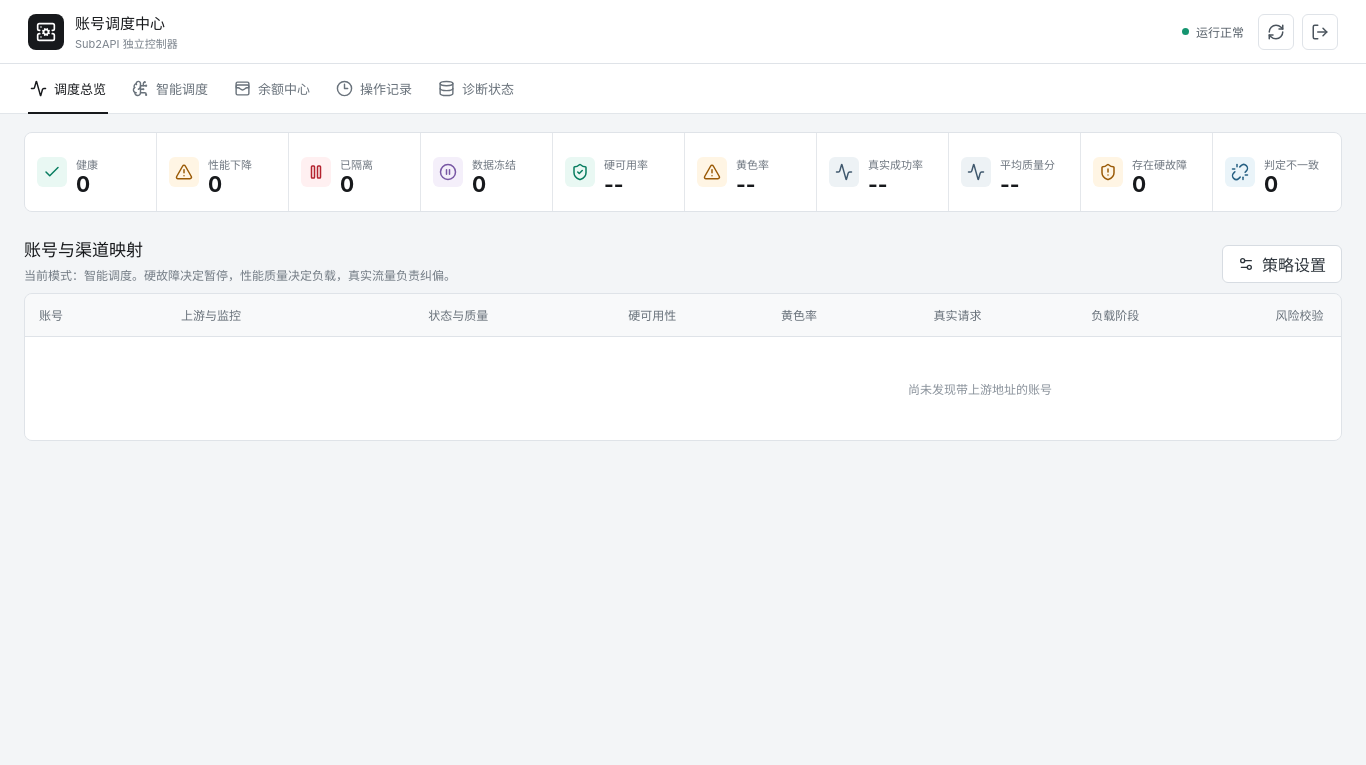
Test: App › tracks an asynchronous chat goal and polls until runtime state changes
The image size is (1366, 765).
Click the button "智能调度".
click(170, 89)  # box [130,64,210,114]
(page scrolled)
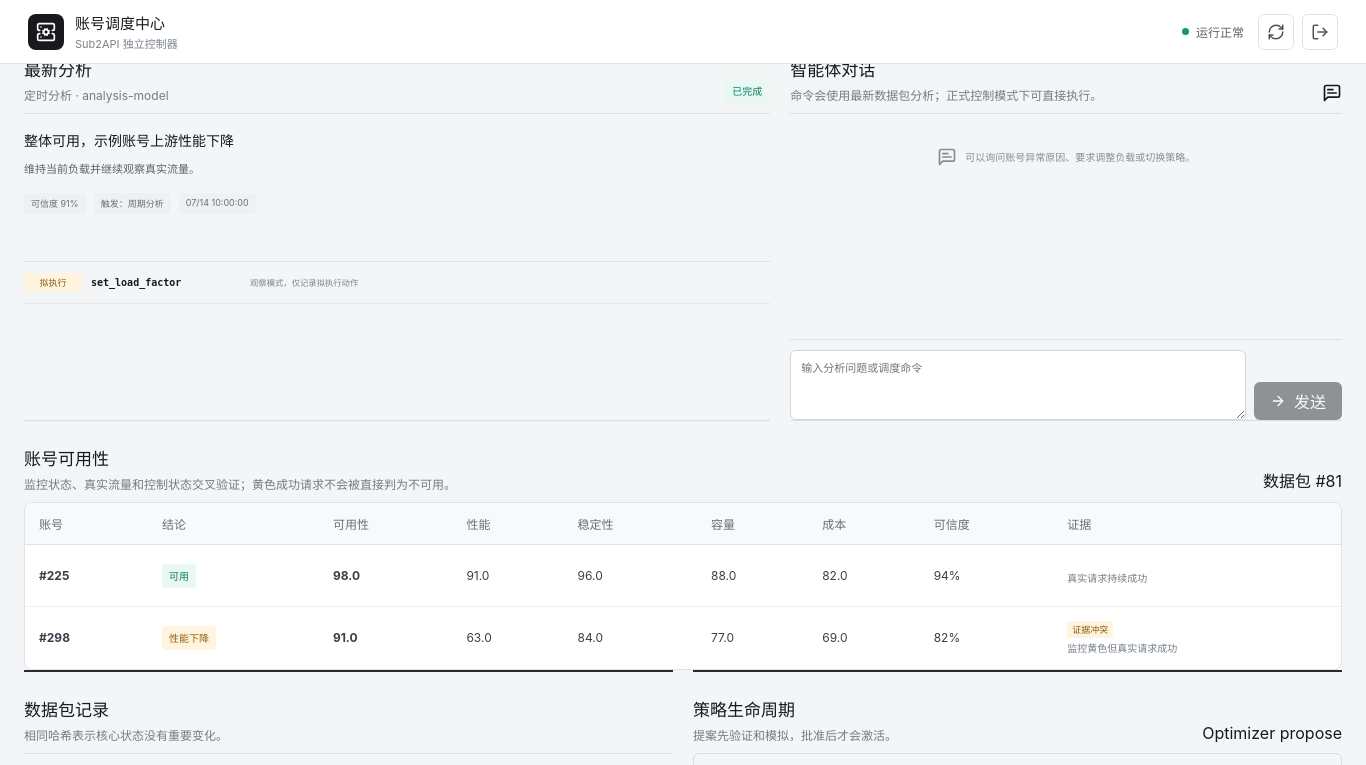
Type "恢复示例账号上游" into the text box with placeholder "输入分析问题或调度命令".
click(1018, 384); type("恢复示例账号上游")  # box [790,350,1246,420]
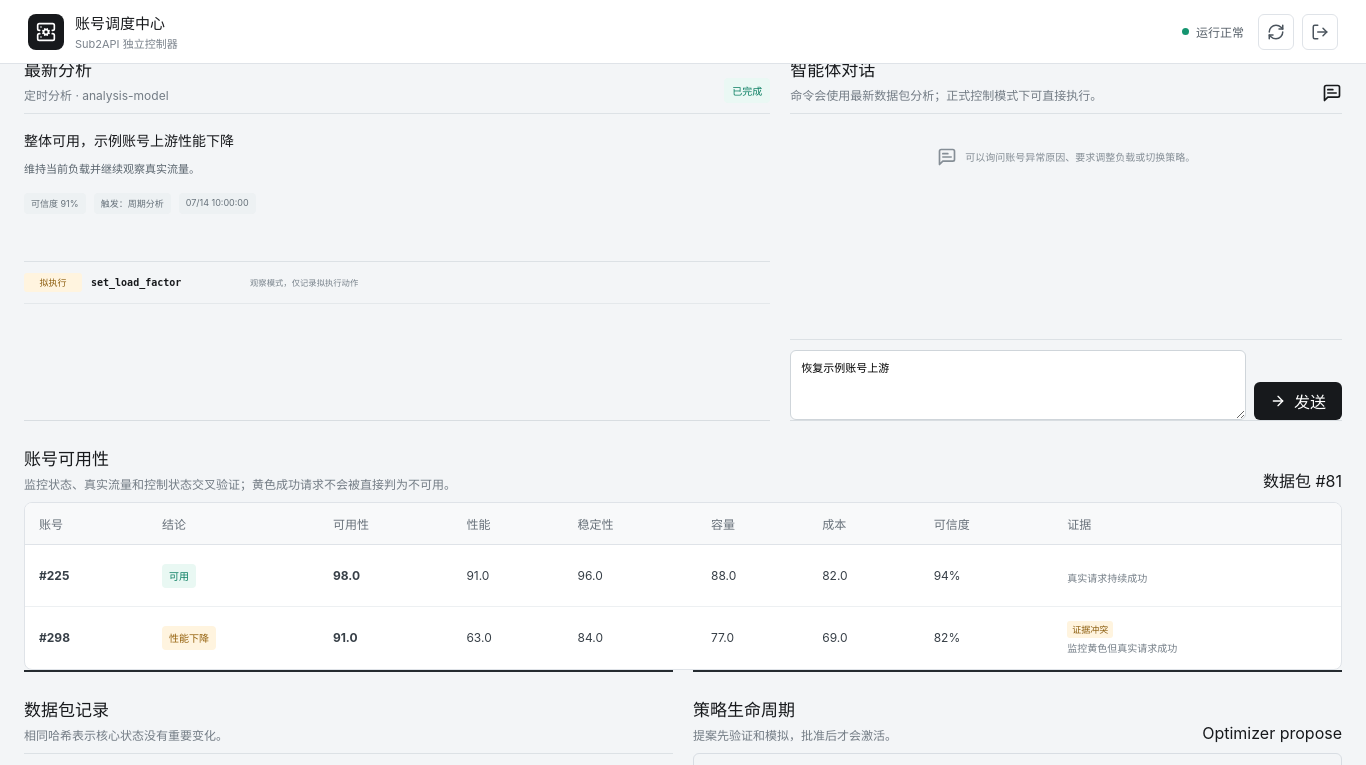
Submit the form with class "agent-chat-form", box [790,338,1342,420]
Wait 1600 ms
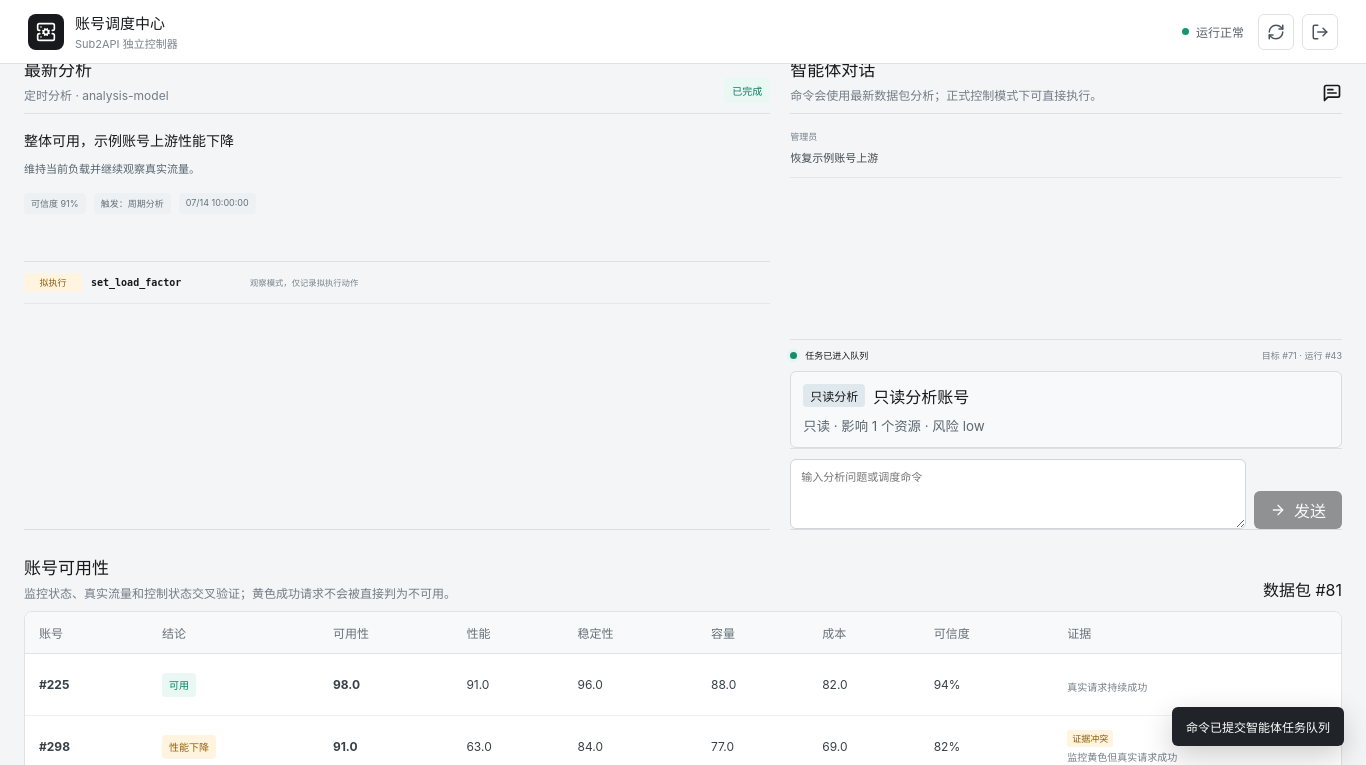
Check: the text "目标 #71" is shown, box [1262,350,1297,360]
Check: the text "任务已进入队列" is shown, box [805,348,868,362]
